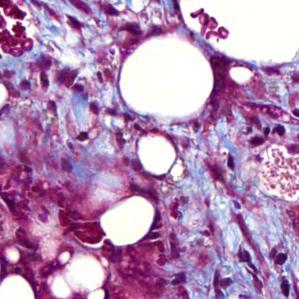steatosis: (95, 195, 160, 247), (130, 130, 179, 178)
